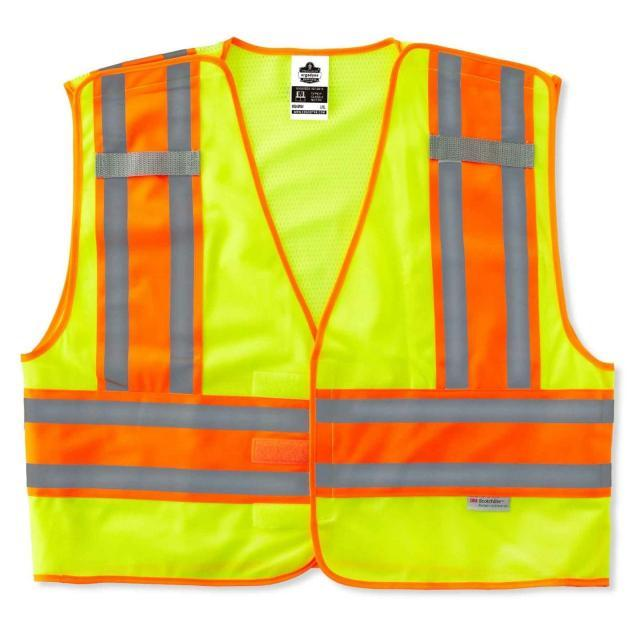reflective_jacket: (6, 33, 639, 614)
